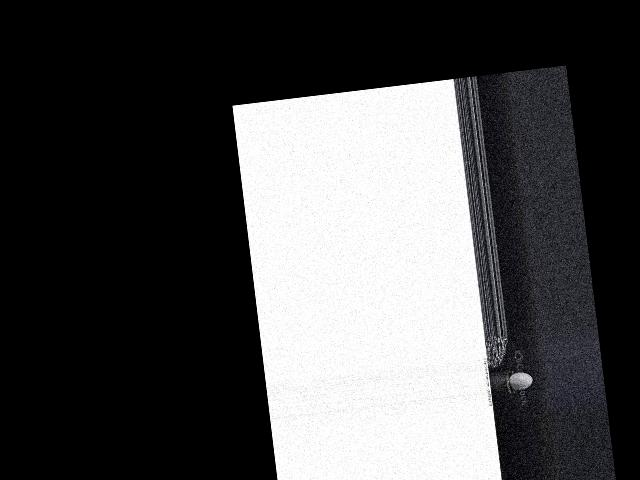egg: (507, 371, 533, 391)
